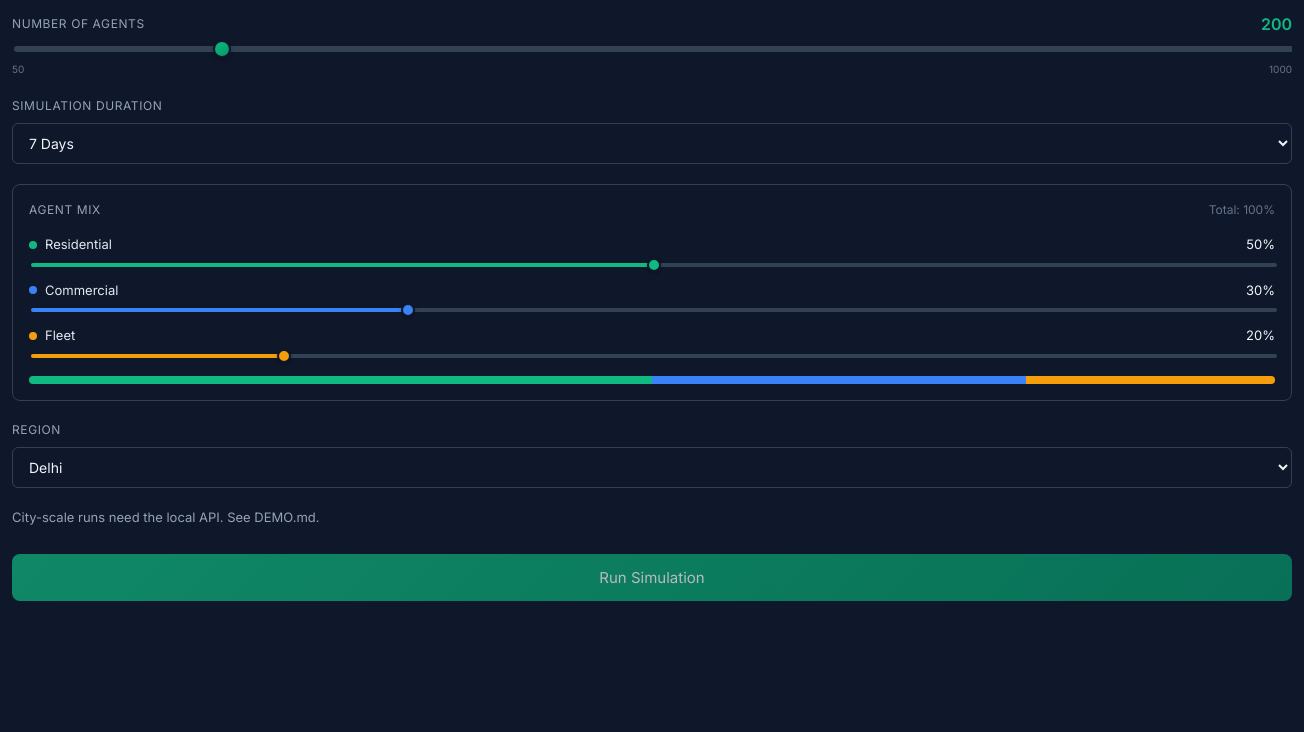
Test: SimulationPanel › Form Validation and Interaction › updates agent count when slider changes
Change slider value
Set the slider labelled "Number of Agents" to "500" at [620, 49], box [14,46,1292,52]
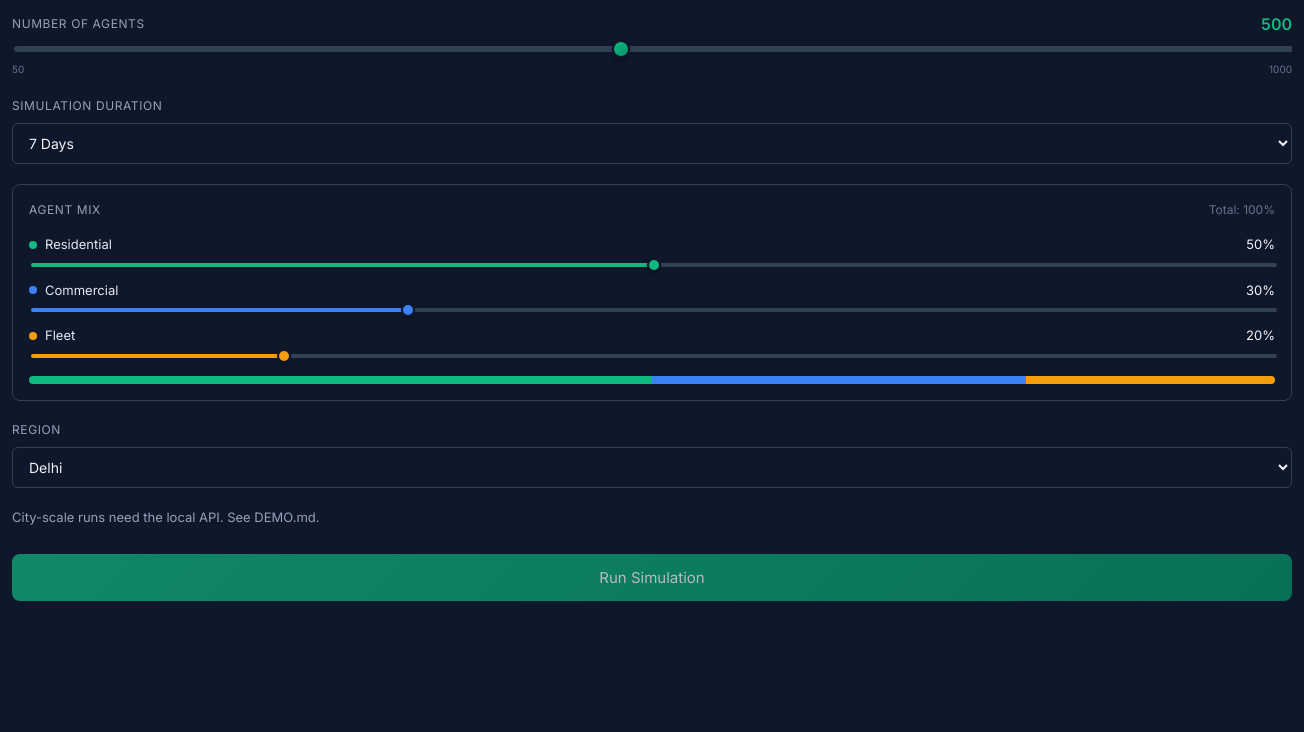
Expected: the text "500" is shown, [1261,12,1292,36]
